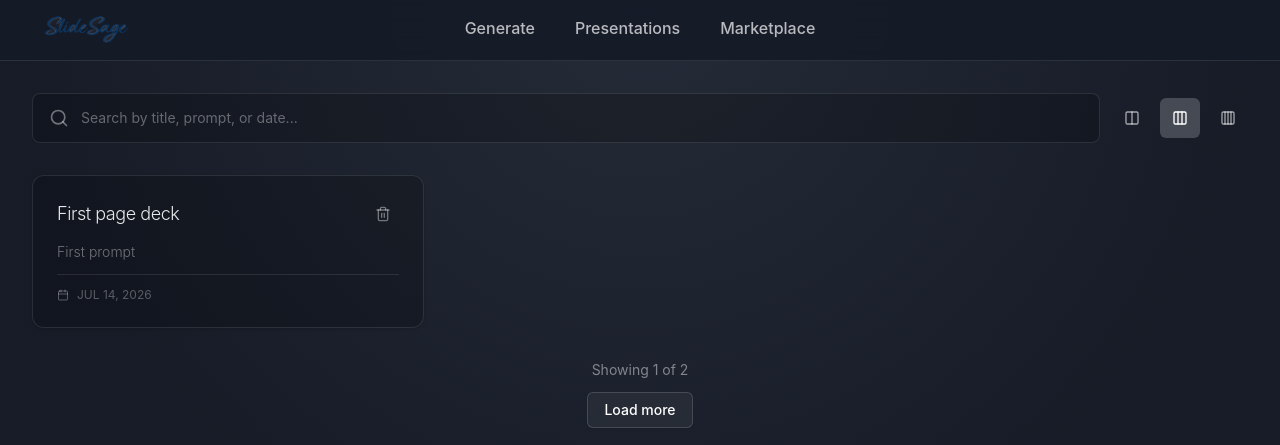
loads additional presentations from the pagination offset
Expected: the text "First page deck" is shown, [57,203,179,224]
Expected: the text "Showing 1 of 2" is shown, [592,360,688,380]
Click the button "Load more" at (640, 410), box [587,392,692,428]
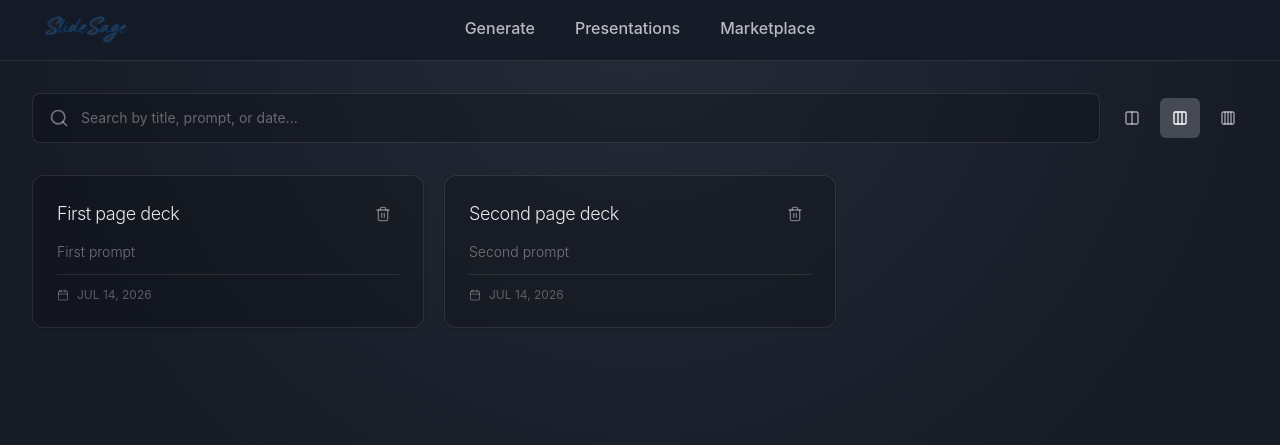
Expected: the text "First page deck" is shown, [57,203,179,224]
Expected: the text "Second page deck" is shown, [469,203,619,224]
Expected: the button "Load more" is gone
